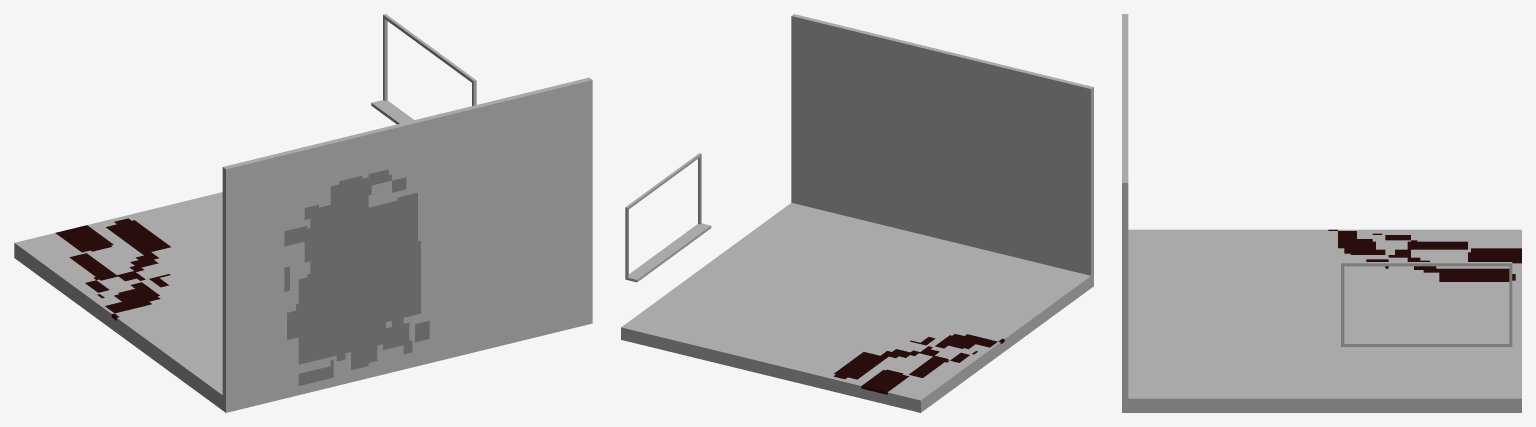
The model's file is 4x2 first (1)-5.obj.
3 renders of one model, left to right at view 1: azimuth 30°, elevation 25°; view 2: azimuth 150°, elevation 25°; view 3: azimuth 270°, elevation 25°, orthographic. The views are drawn at different scales.
Parts seen in each view (by area): view 1: 4x2 first (1)-5; view 2: 4x2 first (1)-5; view 3: 4x2 first (1)-5.
Part boxes in pixels (x1,y1,x2,y2): 4x2 first (1)-5: (14,14,592,412); 4x2 first (1)-5: (621,14,1093,412); 4x2 first (1)-5: (1122,14,1521,412).
Bounding box in the file's own units: 126 × 80 × 126.
Materials: 1 (1 with a texture image).
